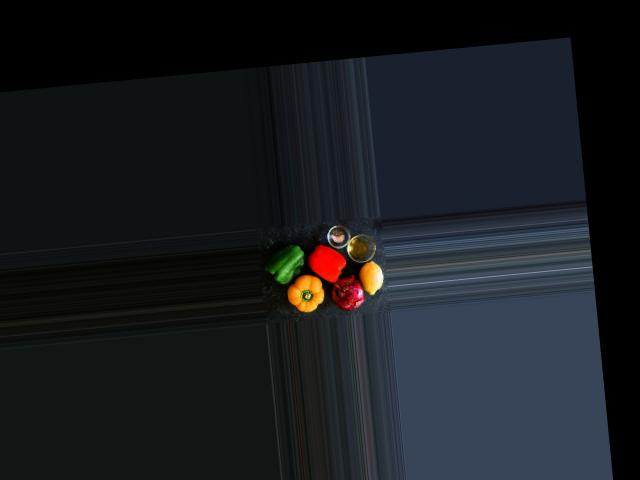bell_pepper: (306, 241, 347, 285)
